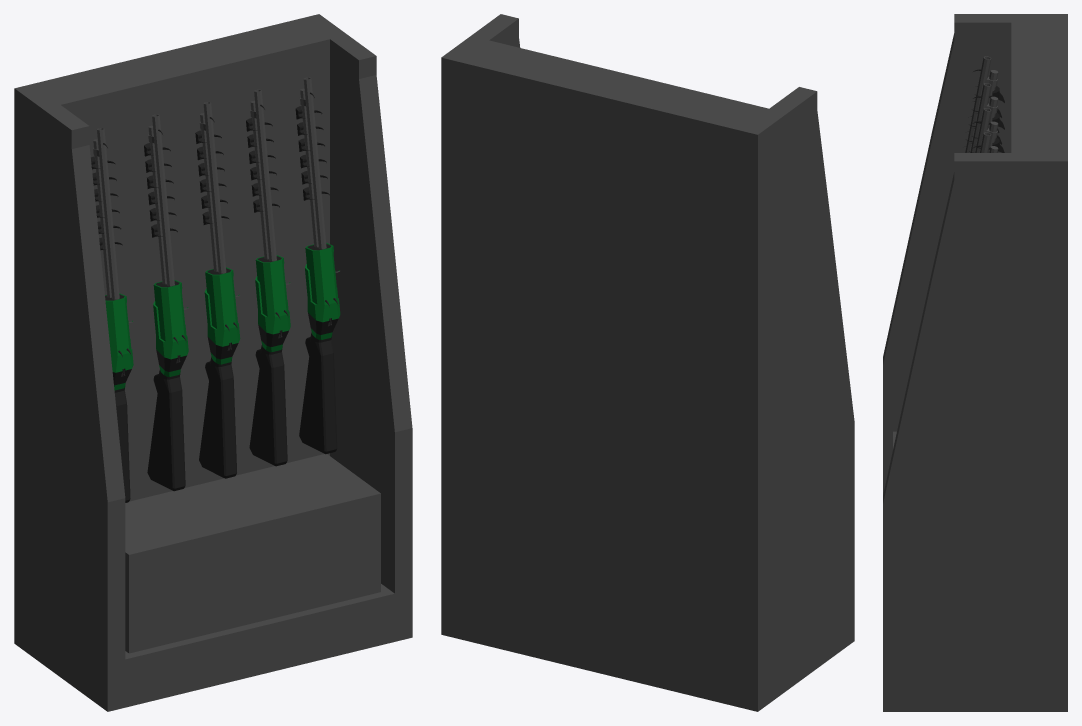
The model's file is weaponlocker3.fbx.
3 views of the same model, side by side, from view 1: azimuth 30°, elevation 25°; view 2: azimuth 150°, elevation 25°; view 3: azimuth 270°, elevation 25° (orthographic). The views are drawn at different scales.
Parts seen in each view (by area): view 1: locker; view 2: locker; view 3: locker.
Boxes of the visible parts, x1,y1,x2,y2 form: locker: (14, 14, 412, 711); locker: (441, 14, 854, 711); locker: (883, 14, 1067, 711).
Bounding box in the file's own units: 200 × 348 × 106.
